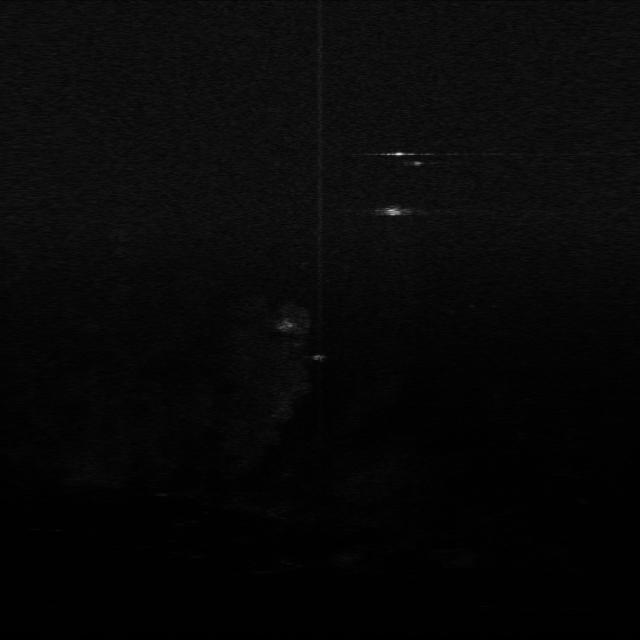rov: (377, 202, 407, 221)
